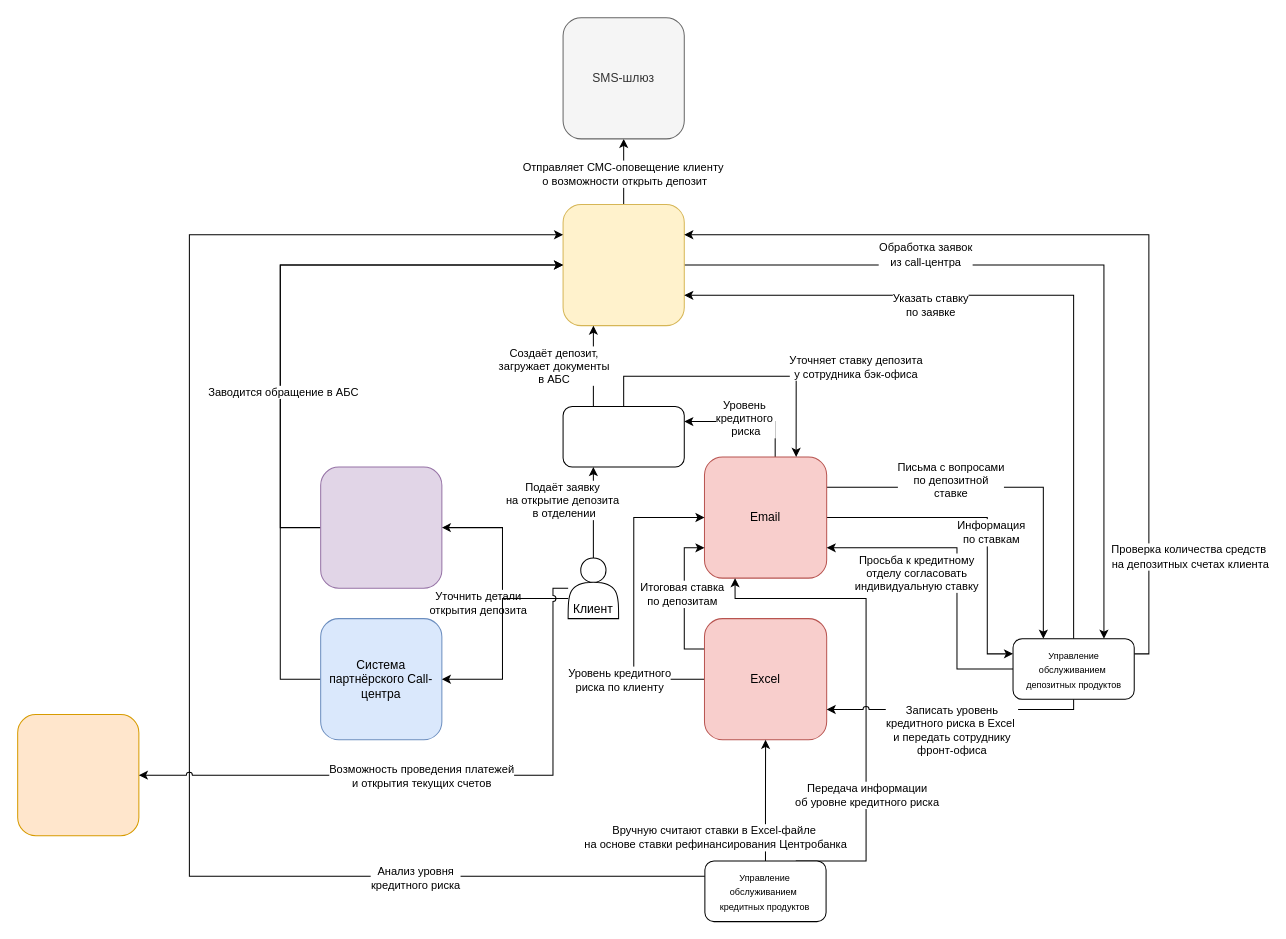
Image size: 1286x939. Some labels were removed from this diagram. Each missing label, with the box of its shape:
АБС: (562, 203, 684, 326)
Интернет-банк: (17, 714, 139, 836)
Система Call-центра: (320, 466, 442, 588)
Управление обслуживанием в сети отделений: (562, 405, 684, 467)
